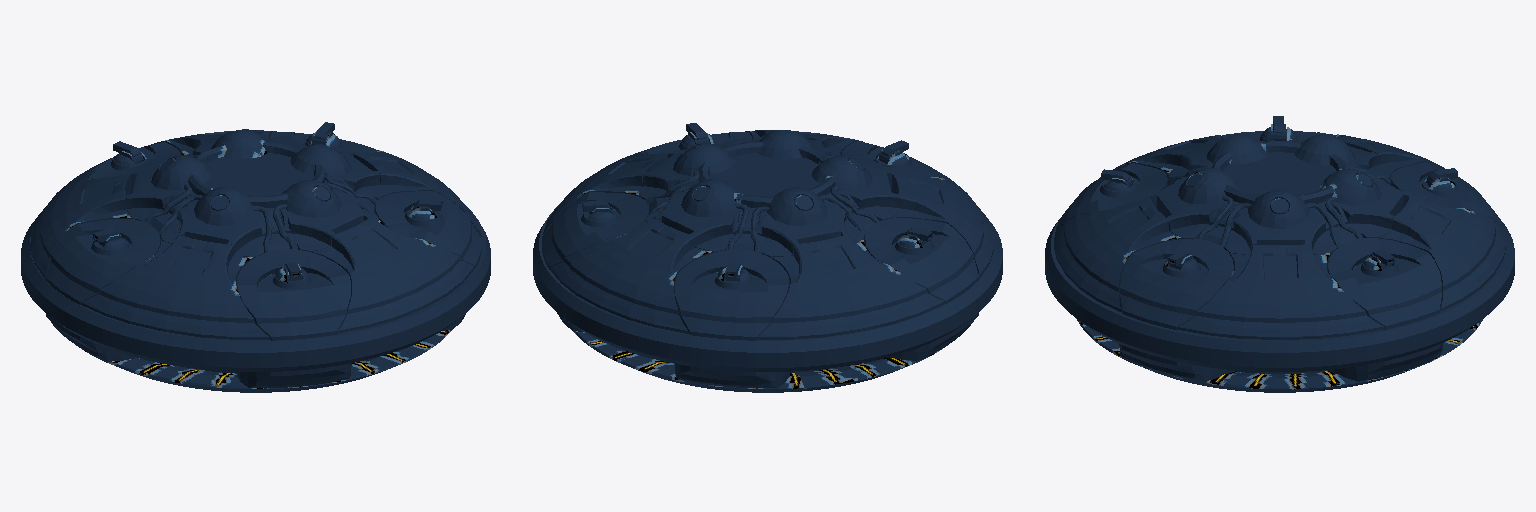
The picture shows the model from 3 angles: view 1: azimuth 30°, elevation 25°; view 2: azimuth 150°, elevation 25°; view 3: azimuth 270°, elevation 25°; orthographic projection.
Visible parts, largest first — view 1: Ufo_Main_Body, Ufo_Ring_1, Ufo_Body_Up.002_Ufo_Body_Up, Ufo_Body_Up.001_Ufo_Body_Up, Ufo_Large_1.004_Ufo_Large_1, Ufo_Large_1, Ufo_Body_Up.003_Ufo_Body_Up, Ufo_Ring_6, Ufo_Large_1.003_Ufo_Large_1, Ufo_Body_Up, Ufo_Large_2.004_Ufo_Large_2, Ufo_Large_1.001_Ufo_Large_1 (+5 smaller); view 2: Ufo_Main_Body, Ufo_Ring_1, Ufo_Body_Up.003_Ufo_Body_Up, Ufo_Body_Up.004_Ufo_Body_Up, Ufo_Large_1.001_Ufo_Large_1, Ufo_Large_1, Ufo_Body_Up.002_Ufo_Body_Up, Ufo_Ring_6, Ufo_Large_1.002_Ufo_Large_1, Ufo_Body_Up, Ufo_Large_2.001_Ufo_Large_2, Ufo_Large_1.004_Ufo_Large_1 (+5 smaller); view 3: Ufo_Main_Body, Ufo_Ring_1, Ufo_Body_Up, Ufo_Body_Up.001_Ufo_Body_Up, Ufo_Body_Up.004_Ufo_Body_Up, Ufo_Large_1.003_Ufo_Large_1, Ufo_Large_1.002_Ufo_Large_1, Ufo_Ring_6, Ufo_Large_1.004_Ufo_Large_1, Ufo_Large_1.001_Ufo_Large_1, Ufo_Large_2.003_Ufo_Large_2, Ufo_Large_2.002_Ufo_Large_2 (+4 smaller).
Boxes of the visible parts, <box> form: Ufo_Main_Body: <box>126,129,384,373</box>; Ufo_Ring_1: <box>21,203,490,371</box>; Ufo_Body_Up.002_Ufo_Body_Up: <box>81,235,269,339</box>; Ufo_Body_Up.001_Ufo_Body_Up: <box>312,217,474,332</box>; Ufo_Large_1.004_Ufo_Large_1: <box>237,249,350,340</box>; Ufo_Large_1: <box>46,219,160,304</box>; Ufo_Body_Up.003_Ufo_Body_Up: <box>30,173,131,279</box>; Ufo_Ring_6: <box>76,329,452,392</box>; Ufo_Large_1.003_Ufo_Large_1: <box>375,191,481,267</box>; Ufo_Body_Up: <box>351,150,481,236</box>; Ufo_Large_2.004_Ufo_Large_2: <box>237,363,351,388</box>; Ufo_Large_1.001_Ufo_Large_1: <box>69,142,180,182</box>; Ufo_Main_Body: <box>639,130,897,372</box>; Ufo_Ring_1: <box>533,203,1002,371</box>; Ufo_Body_Up.003_Ufo_Body_Up: <box>757,234,944,339</box>; Ufo_Body_Up.004_Ufo_Body_Up: <box>550,218,712,333</box>; Ufo_Large_1.001_Ufo_Large_1: <box>675,250,789,340</box>; Ufo_Large_1: <box>865,218,978,303</box>; Ufo_Body_Up.002_Ufo_Body_Up: <box>892,172,993,277</box>; Ufo_Ring_6: <box>573,331,947,392</box>; Ufo_Large_1.002_Ufo_Large_1: <box>542,192,648,269</box>; Ufo_Body_Up: <box>542,151,670,237</box>; Ufo_Large_2.001_Ufo_Large_2: <box>675,364,789,388</box>; Ufo_Large_1.004_Ufo_Large_1: <box>841,141,953,181</box>; Ufo_Main_Body: <box>1150,134,1409,373</box>; Ufo_Ring_1: <box>1045,219,1514,371</box>; Ufo_Body_Up: <box>1178,244,1384,339</box>; Ufo_Body_Up.001_Ufo_Body_Up: <box>1054,196,1180,311</box>; Ufo_Body_Up.004_Ufo_Body_Up: <box>1379,195,1505,310</box>; Ufo_Large_1.003_Ufo_Large_1: <box>1120,239,1233,329</box>; Ufo_Large_1.002_Ufo_Large_1: <box>1328,238,1441,329</box>; Ufo_Ring_6: <box>1077,319,1482,392</box>; Ufo_Large_1.004_Ufo_Large_1: <box>1057,163,1167,226</box>; Ufo_Large_1.001_Ufo_Large_1: <box>1391,162,1502,225</box>; Ufo_Large_2.003_Ufo_Large_2: <box>1119,344,1233,381</box>; Ufo_Large_2.002_Ufo_Large_2: <box>1328,343,1442,381</box>.
Bounding box in the file's own units: 4.23 × 1.86 × 4.23.
Materials: 1 (1 with a texture image).